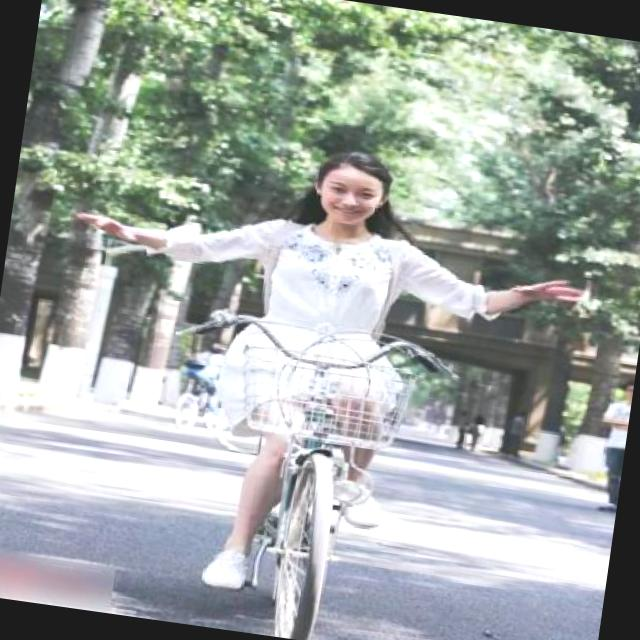Person: (78, 108, 575, 638)
